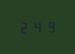four: (31, 20, 42, 33)
nine: (43, 19, 54, 33)
two: (18, 20, 29, 34)
